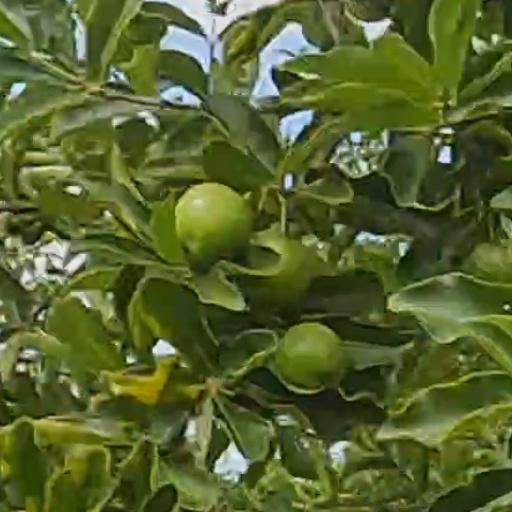acerola: (177, 185, 249, 260), (279, 323, 344, 388)
